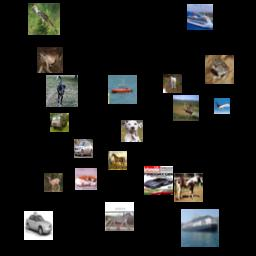airplane: (214, 98, 230, 114)
automobile: (144, 166, 173, 195), (24, 211, 53, 240), (74, 139, 93, 158)
bird: (28, 3, 60, 35), (173, 95, 199, 121)
cat: (75, 168, 97, 190)
deer: (44, 173, 63, 192)
dog: (46, 75, 78, 107), (121, 120, 143, 142), (163, 74, 182, 93)
frog: (205, 55, 234, 84), (37, 47, 63, 73)
ship: (181, 209, 219, 247), (108, 75, 137, 104), (187, 4, 213, 30)
truck: (50, 113, 69, 132)
